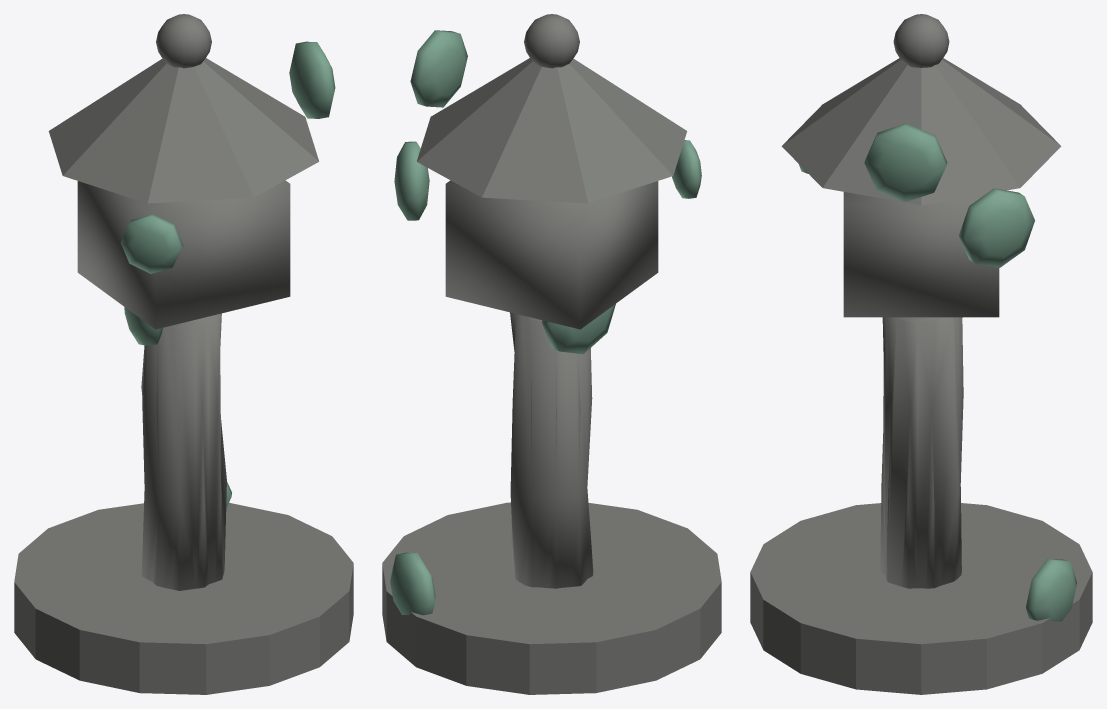
The model's file is moss_lantern.glb.
3 views of the same model, side by side, from view 1: azimuth 30°, elevation 25°; view 2: azimuth 150°, elevation 25°; view 3: azimuth 270°, elevation 25° (orthographic).
Visible parts, largest first — view 1: MossLantern; view 2: MossLantern; view 3: MossLantern.
Boxes of the visible parts, x1,y1,x2,y2 form: MossLantern: (14,14,353,694); MossLantern: (382,14,721,694); MossLantern: (750,14,1092,694).
Bounding box in the file's own units: 1.1 × 2.15 × 1.1.
